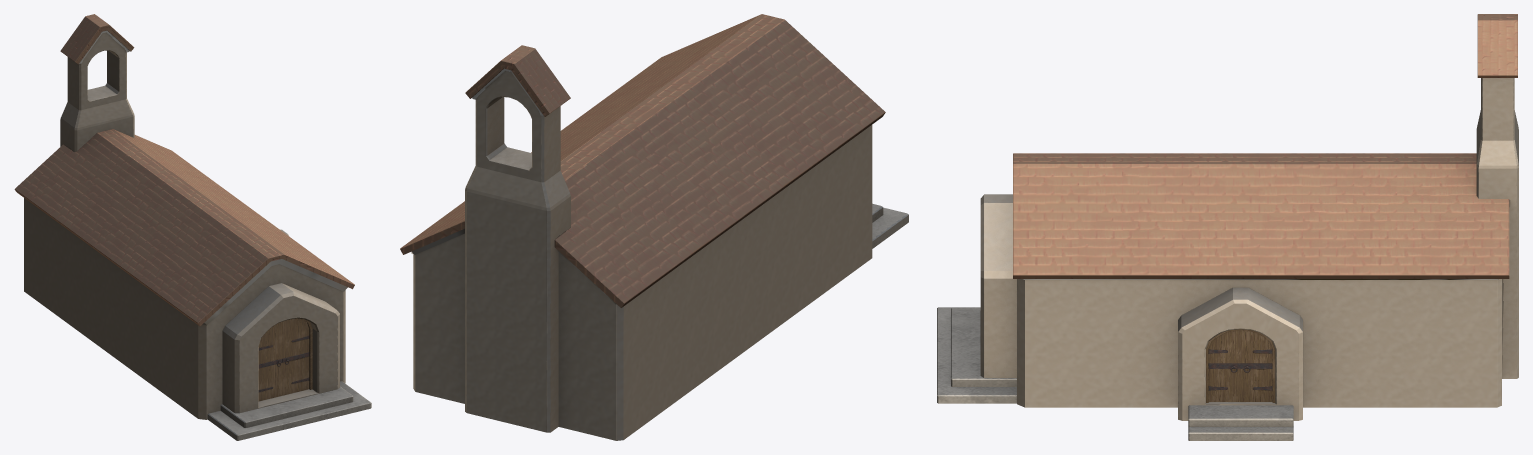
File: church.glb
3 renders of one model, left to right at view 1: azimuth 30°, elevation 25°; view 2: azimuth 150°, elevation 25°; view 3: azimuth 270°, elevation 25°, orthographic. The views are drawn at different scales.
Visible parts, largest first — view 1: church, church_door; view 2: church; view 3: church, church_door.
Boxes of the visible parts, bbox=[...] form: church: bbox=[14, 14, 371, 440]; church_door: bbox=[258, 318, 312, 401]; church: bbox=[400, 14, 908, 440]; church: bbox=[937, 14, 1518, 440]; church_door: bbox=[1206, 329, 1275, 402].
Size of what is drawn, in the model's own units: 9.01 by 10.73 by 16.55.
Materials: 2 (2 with a texture image).
